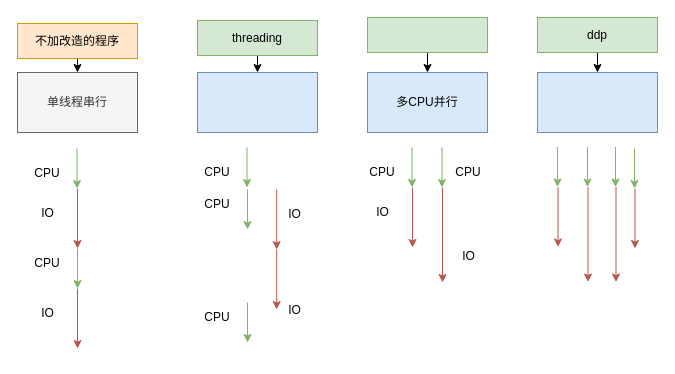
Some shapes in this 675 by 374 pixel diagram are drawn without their labels. The centre of each missing label's shape, as x and y in pixels:
multiprocessing: point (427, 34)
多机器并行: point (597, 102)
多线程并发: point (257, 102)
